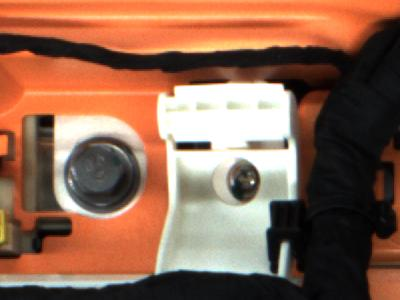nut_b: (60, 137, 140, 215)
